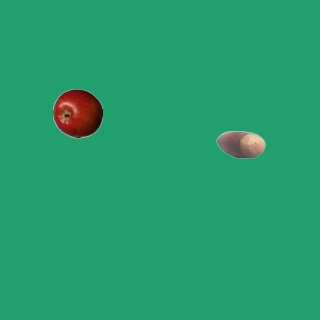Apple Braeburn: (52, 88, 102, 138)
Hazelnut: (215, 119, 265, 169)
